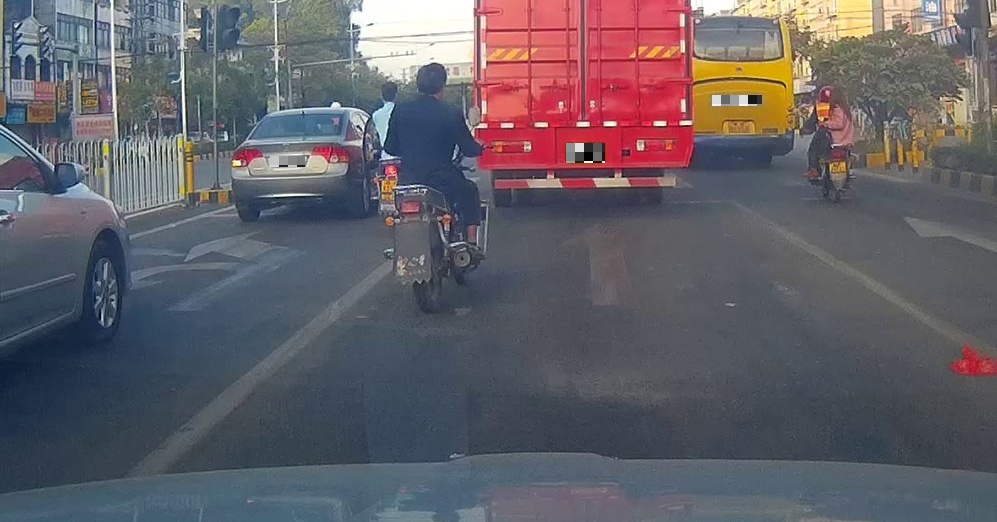L_light: (230, 149, 263, 168)
R_light: (311, 145, 349, 163)
T_light: (294, 113, 314, 118)
day-left: (230, 107, 372, 223)
plate_1: (270, 156, 305, 167)
plate_2: (566, 143, 605, 163)
plate_3: (712, 95, 762, 106)
